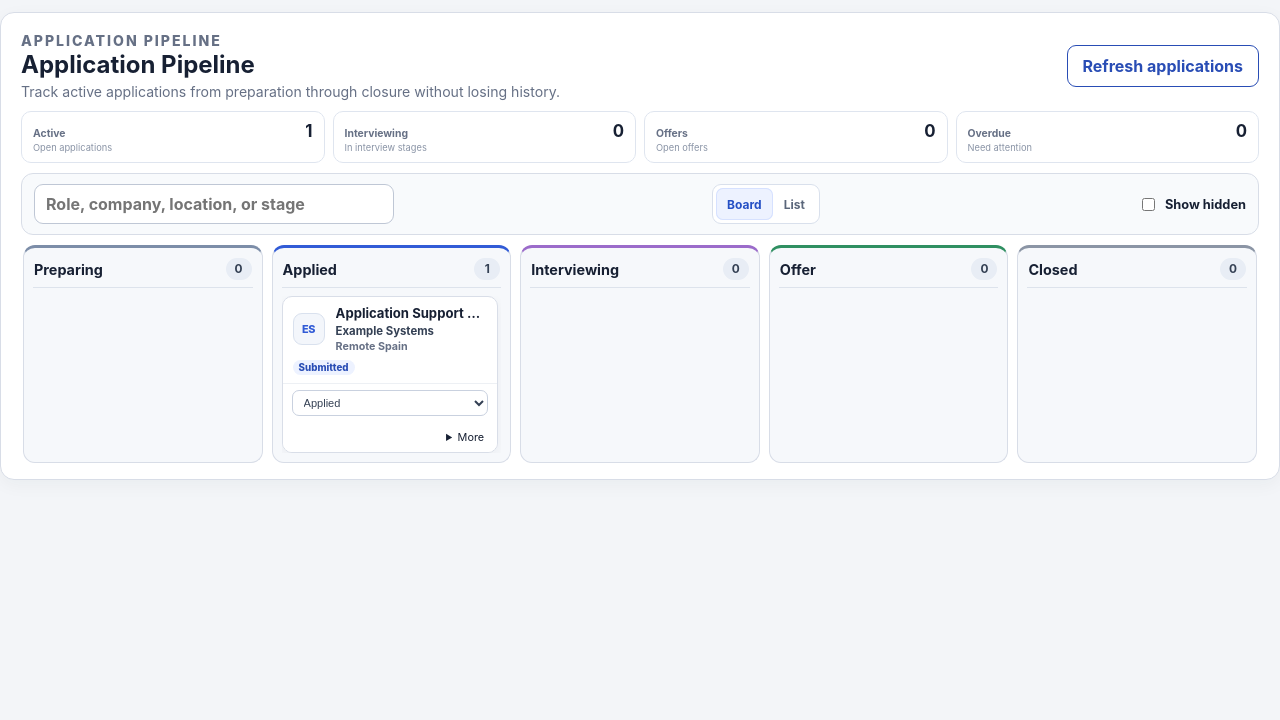
Scenario: ApplicationDashboard › refreshes the application card immediately after a successful metadata edit
Expected: the element named "Open Application Support Engineer" is shown, [282,296,498,453]
Click the heading named "More actions for Application Support Engineer" at (471, 437), box [458,430,484,444]
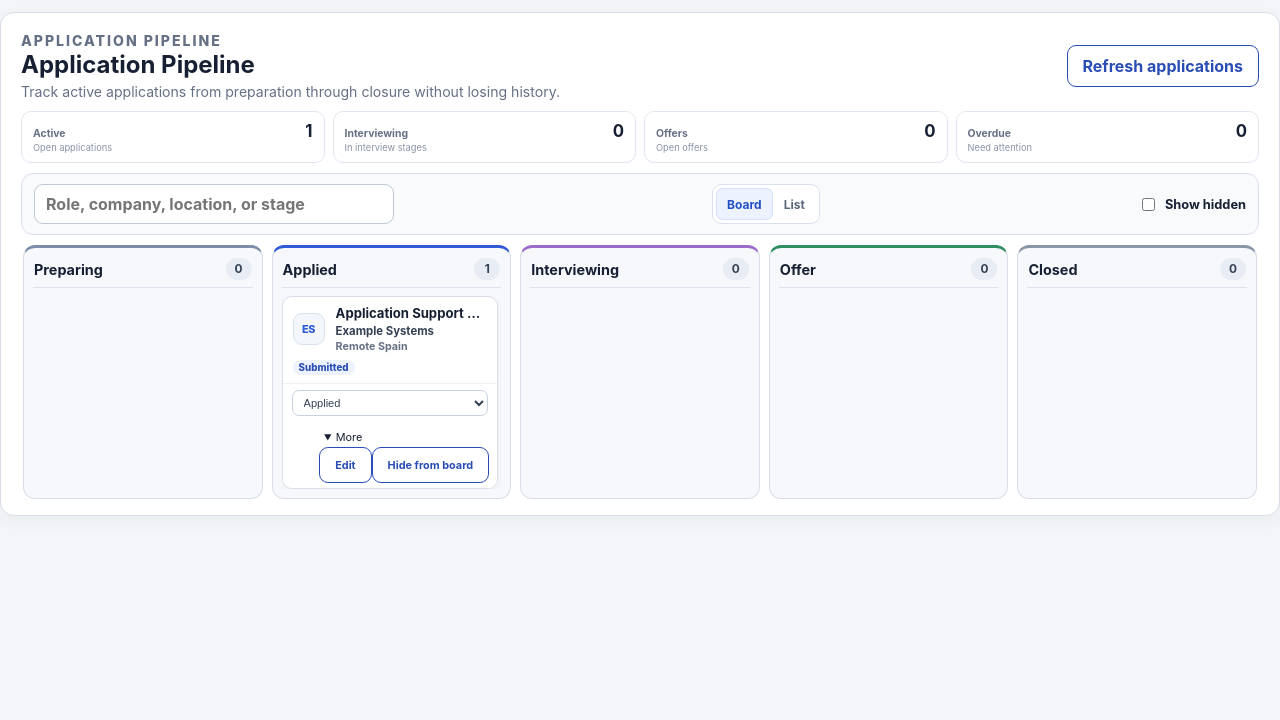
Click the button with aria-label "Edit application metadata for Application Support Engineer" at (345, 465), box [319,447,372,483]
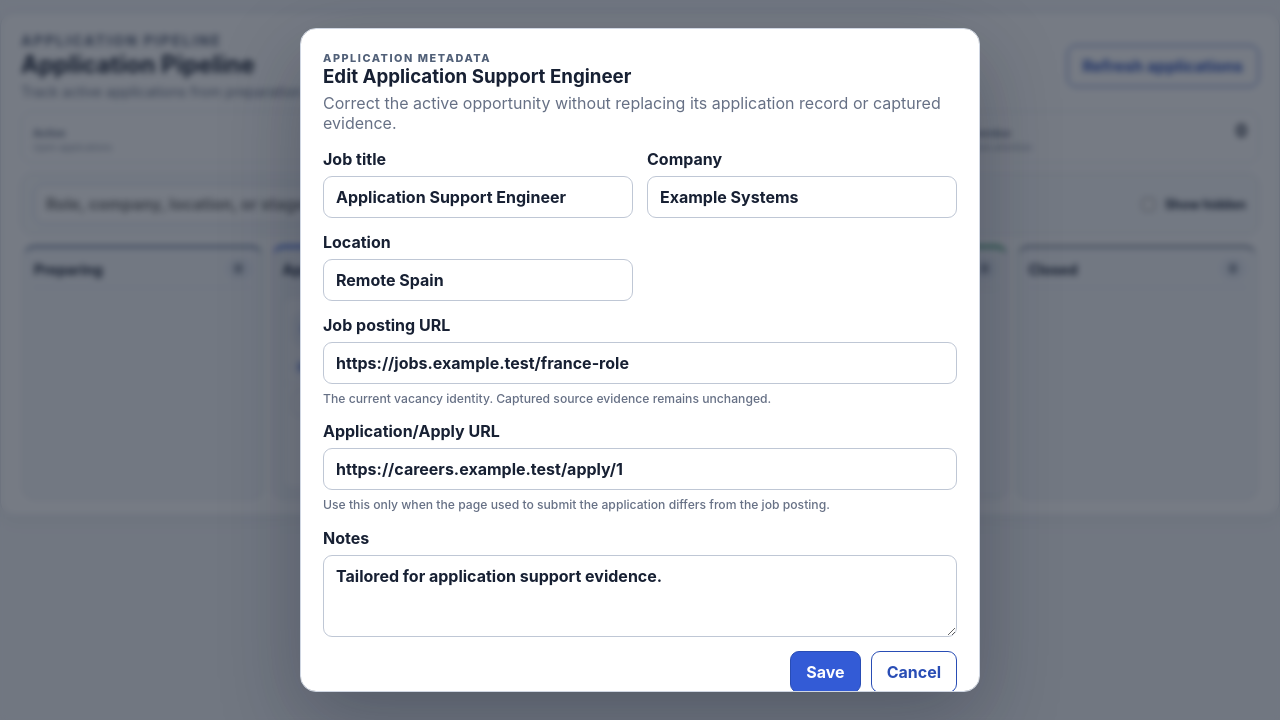
Expected: the button "Save" is enabled, [790,651,861,692]
Replace the text in the field labelled "Location" with "Madrid, Spain" at (478, 280), box [323,259,633,301]
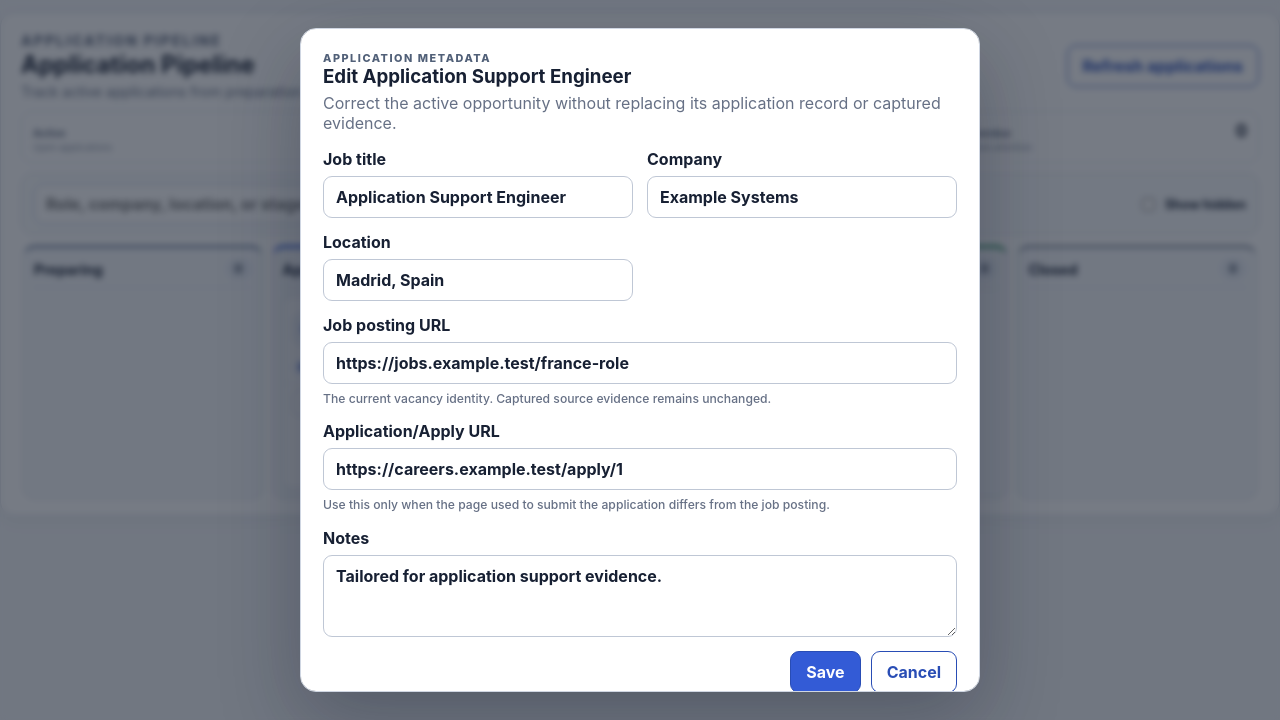
Replace the text in the field labelled "Job posting URL" with "https://jobs.smartrecruiters.com/psicro/744000151009639-it-infrastructure-engineer-windows-active-directory-vmware-" at (640, 363), box [323,342,957,384]
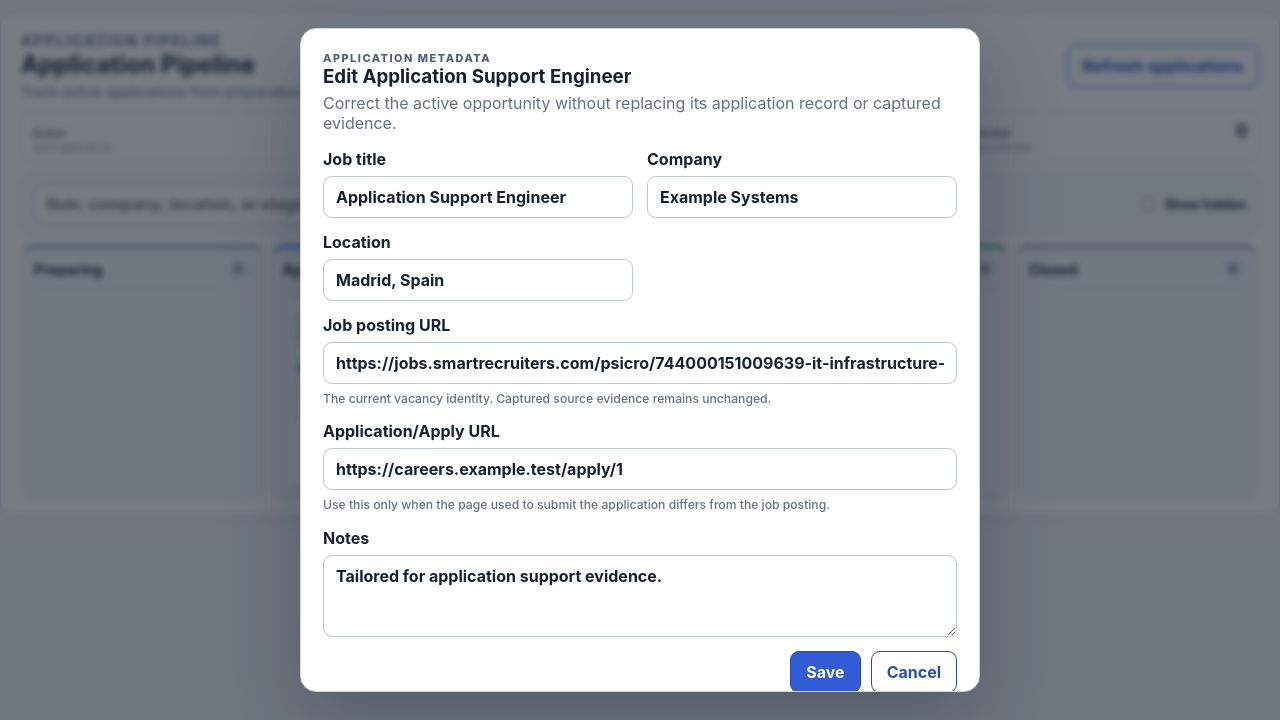
Click the button "Save" at (825, 672), box [790,651,861,693]
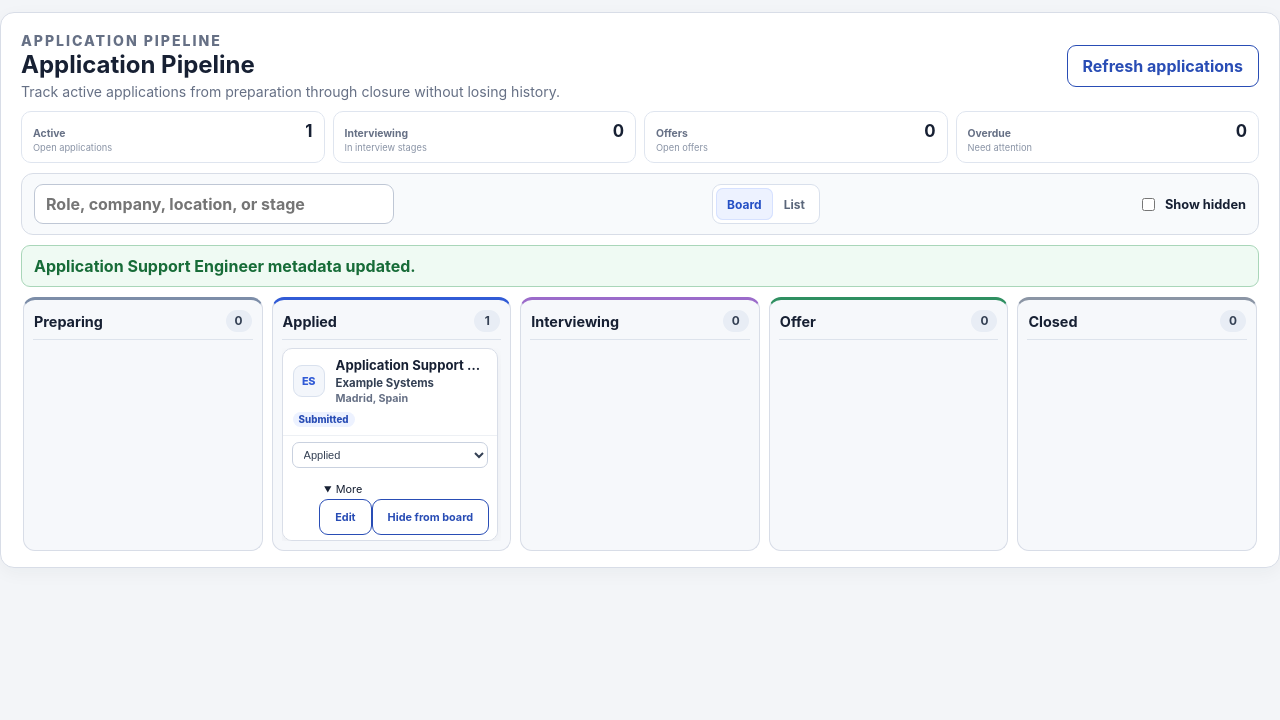
Expected: the heading "Edit Application Support Engineer" is gone
Expected: the text "Madrid, Spain" is shown, [336,392,408,405]
